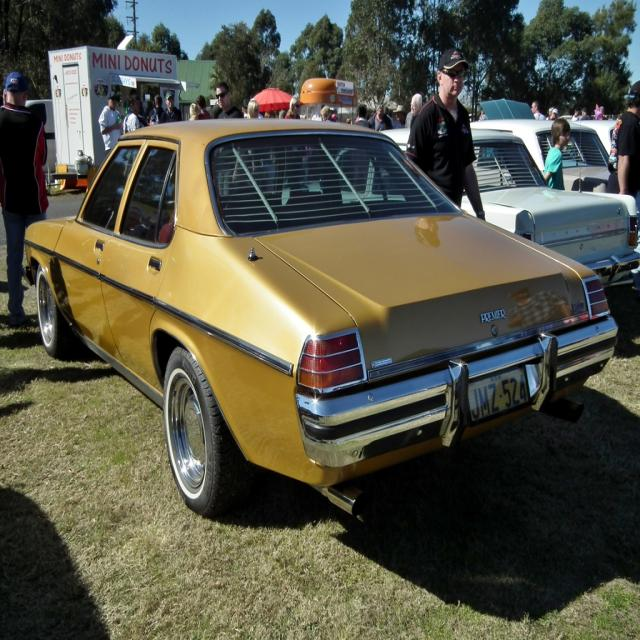car: (22, 109, 618, 513)
